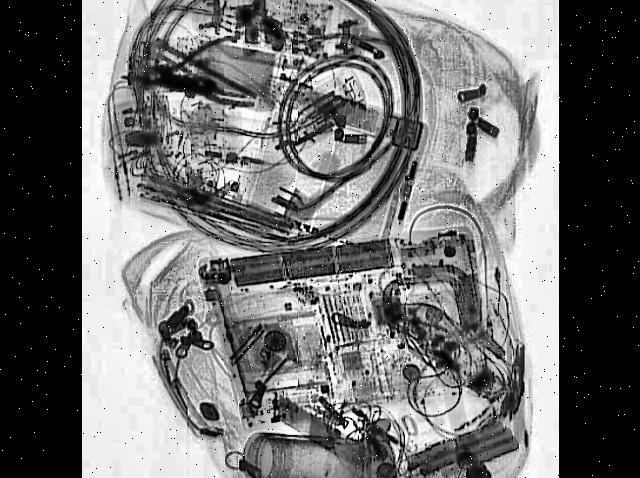Pliers: (134, 34, 253, 112)
